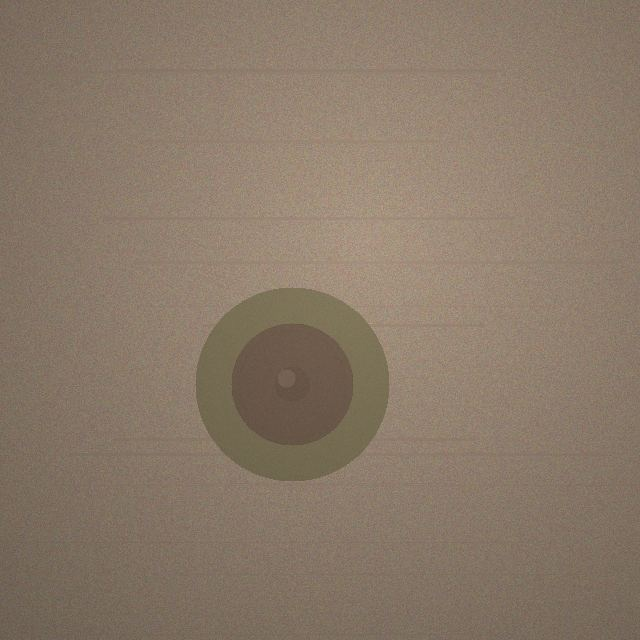good: (195, 287, 389, 481)
